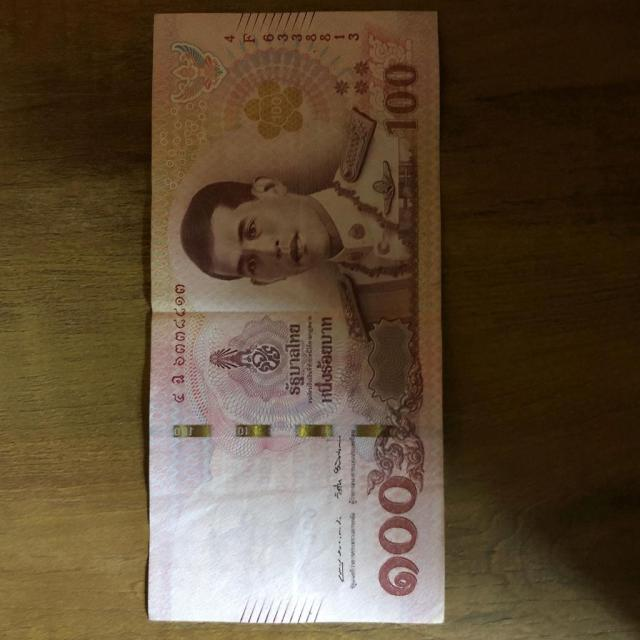THAI100: (146, 11, 446, 626)
